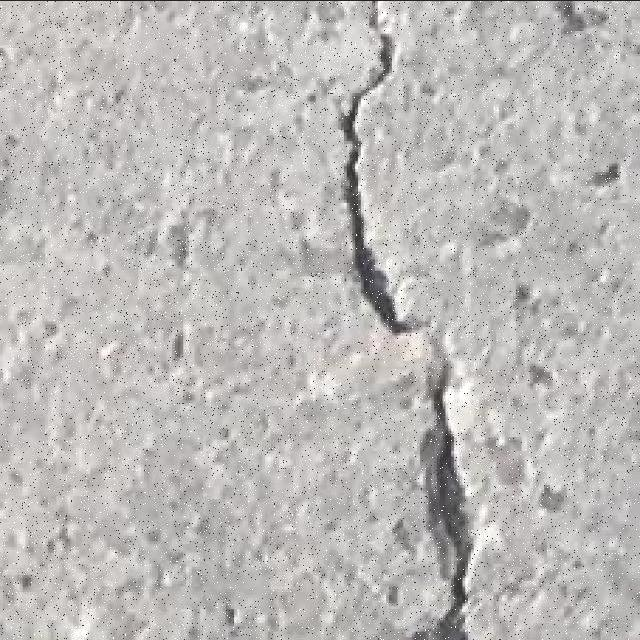crack: (314, 0, 493, 640)
